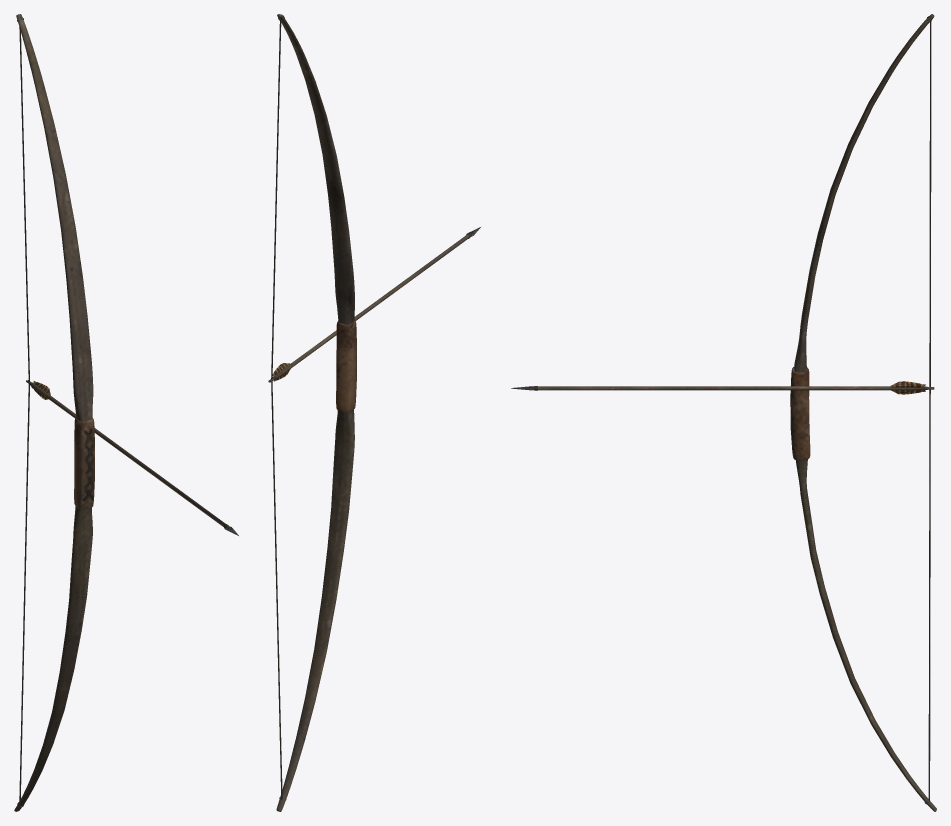
File: Weapons_LongBowB_3P_LOD0.glb
The picture shows the model from 3 angles, left to right: view 1: azimuth 30°, elevation 25°; view 2: azimuth 150°, elevation 25°; view 3: azimuth 270°, elevation 25°; orthographic projection.
Parts seen in each view (by area): view 1: Hoodie; view 2: Hoodie; view 3: Hoodie.
Boxes of the visible parts, x1=… form: Hoodie: x1=14, y1=14, x2=238, y2=811; Hoodie: x1=268, y1=14, x2=480, y2=811; Hoodie: x1=511, y1=14, x2=936, y2=811.
Size of the model in its own units: 0.0542 by 1.75 by 0.8482.
Materials: 1 (1 with a texture image).
